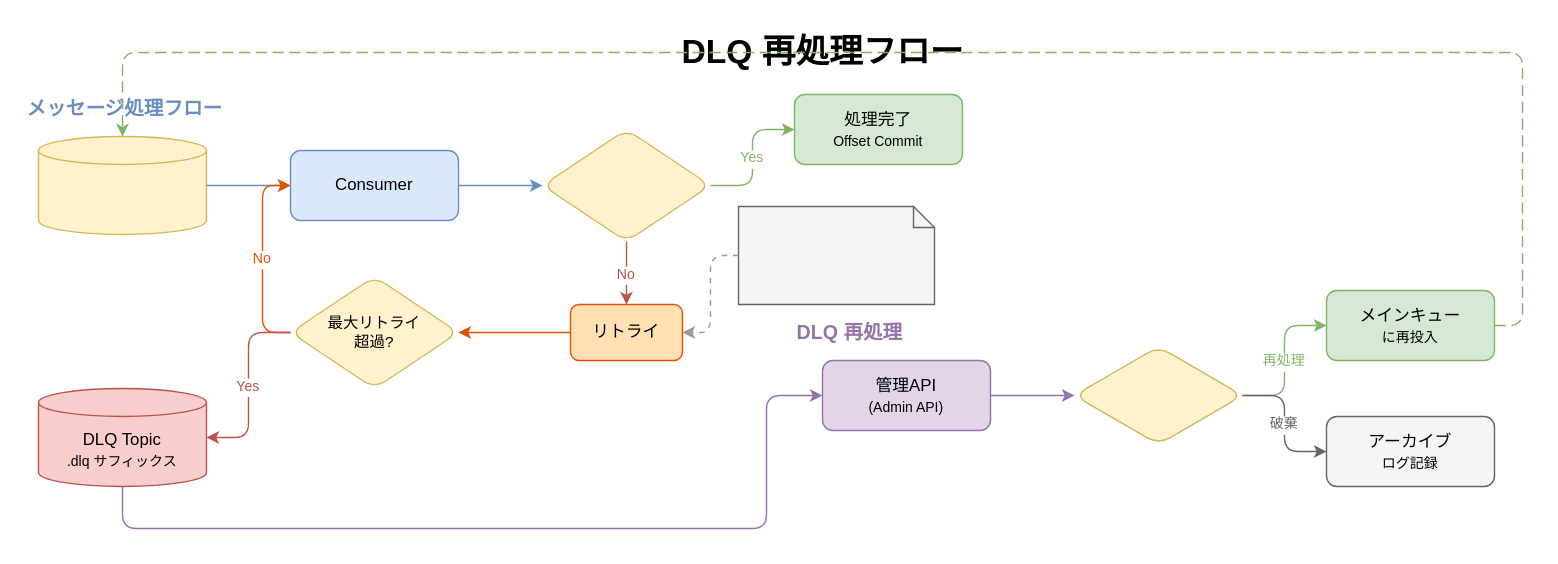
This 1558x564 diagram has some shape labels left out. Each missing label, with the centre of its shape:
"Kafka Topic メインキュー" goes at point 121,184.
"リトライ設定: 最大3回 バックオフ: 指数関数 初期間隔: 1秒" goes at point 835,254.
"再処理 or 破棄?" goes at point 1157,394.
"処理成功?" goes at point 625,184.
